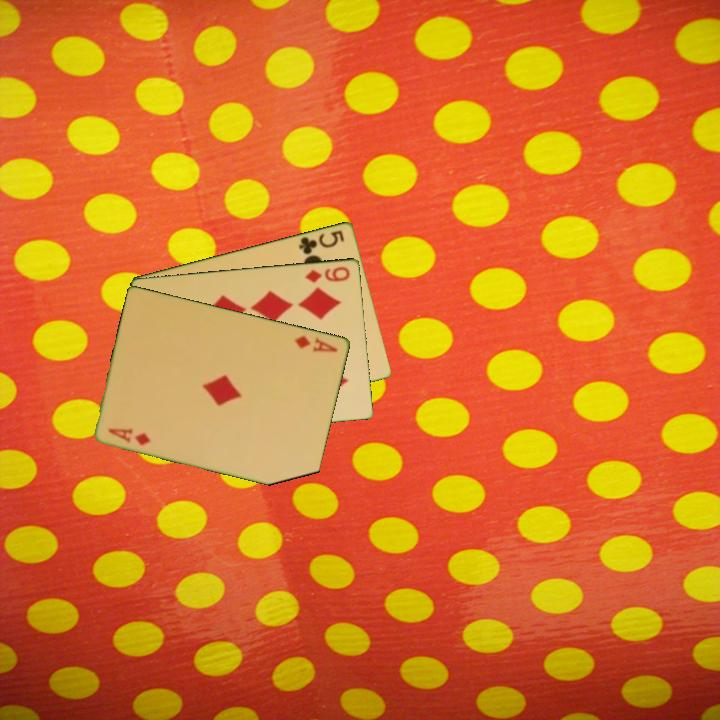5c: (295, 226, 347, 257)
9d: (302, 263, 353, 285)
Ad: (291, 331, 341, 355), (105, 424, 154, 448)
